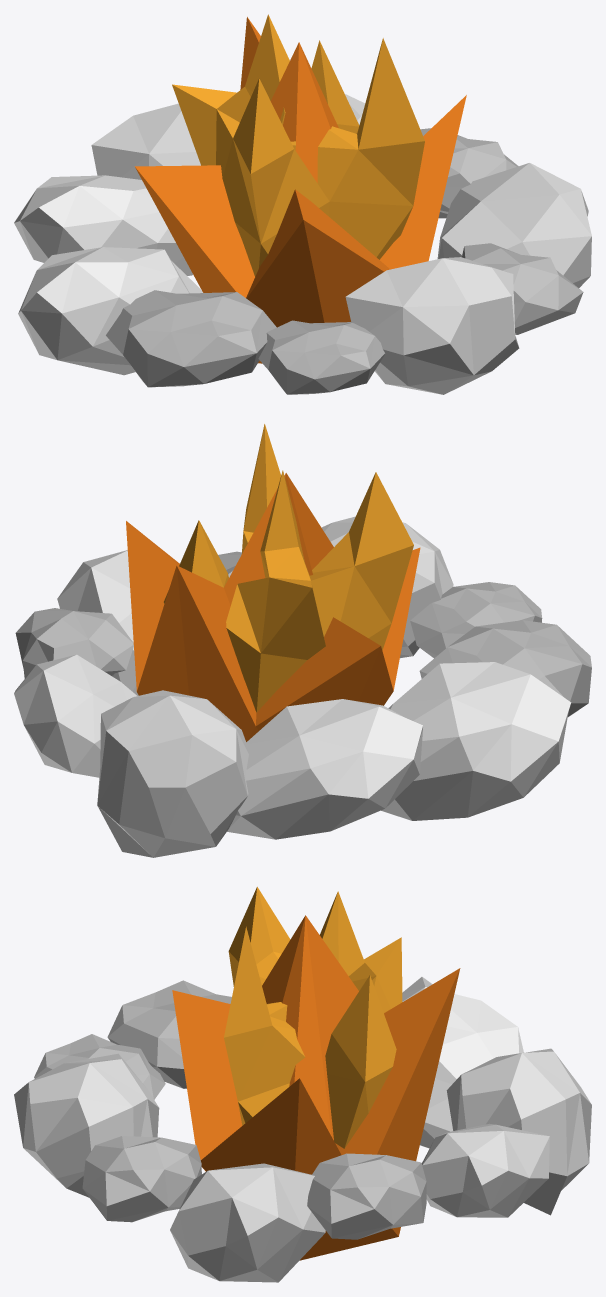
Rendered from props_051.glb.
3 renders of one model, top to bottom at view 1: azimuth 30°, elevation 25°; view 2: azimuth 150°, elevation 25°; view 3: azimuth 270°, elevation 25°, orthographic. The views are drawn at different scales.
Visible parts, largest first — view 1: props_051; view 2: props_051; view 3: props_051.
Boxes of the visible parts, left/top/right/bottom form: props_051: left=14, top=14, right=591, bottom=394; props_051: left=14, top=424, right=591, bottom=857; props_051: left=14, top=887, right=591, bottom=1282.
Bounding box in the file's own units: 1.79 × 1.09 × 1.76.
1 material, 1 textured.
